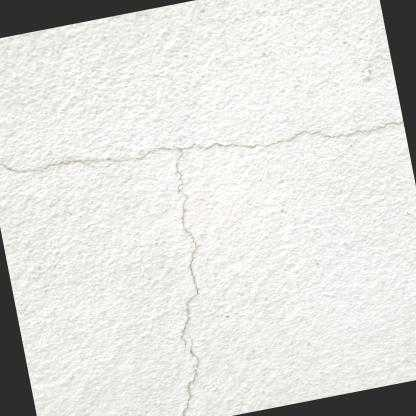crack: (0, 117, 403, 349), (178, 333, 201, 416)
